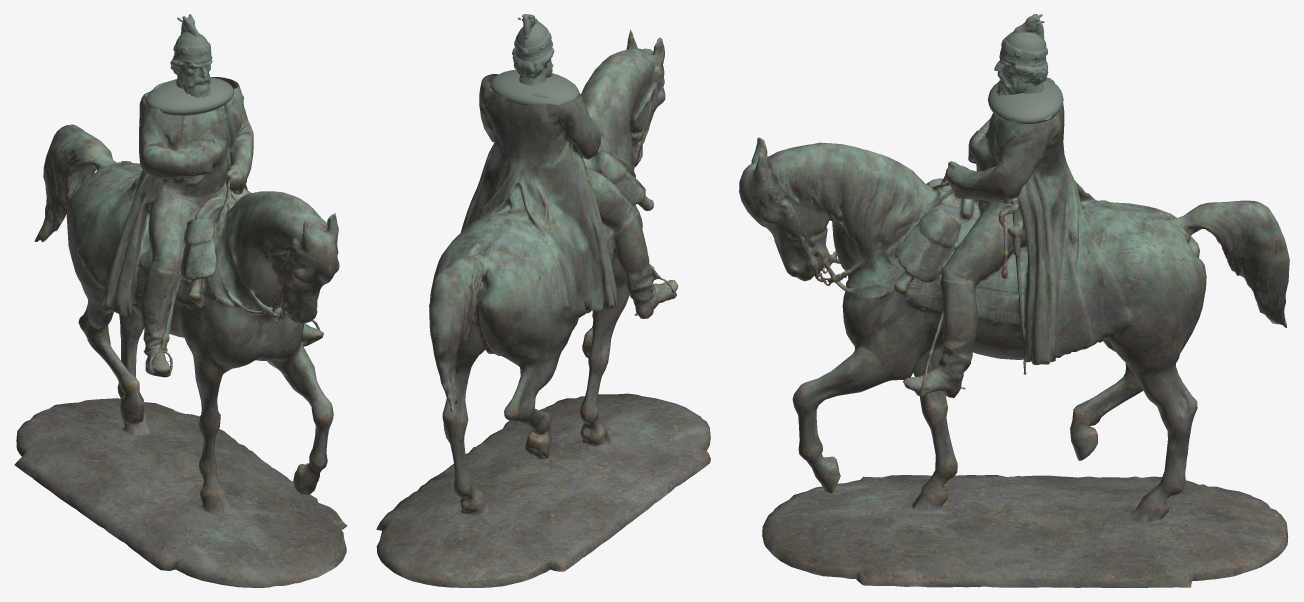
File: skanderbeg_approx.glb
3 renders of one model, left to right at view 1: azimuth 30°, elevation 25°; view 2: azimuth 150°, elevation 25°; view 3: azimuth 270°, elevation 25°, orthographic. The views are drawn at different scales.
Visible parts, largest first — view 1: Equestrian bronze, Skanderbeg portrait, Bronze collar; view 2: Equestrian bronze, Skanderbeg portrait, Bronze collar; view 3: Equestrian bronze, Skanderbeg portrait, Bronze collar.
Boxes of the visible parts, left/top/right/bottom form: Equestrian bronze: left=14, top=77, right=347, bottom=587; Skanderbeg portrait: left=143, top=14, right=212, bottom=98; Bronze collar: left=146, top=77, right=233, bottom=115; Equestrian bronze: left=376, top=29, right=710, bottom=587; Skanderbeg portrait: left=489, top=14, right=562, bottom=105; Bronze collar: left=490, top=70, right=579, bottom=105; Equestrian bronze: left=739, top=80, right=1289, bottom=587; Skanderbeg portrait: left=994, top=14, right=1054, bottom=119; Bronze collar: left=987, top=79, right=1063, bottom=123.
Bounding box in the file's own units: 3.22 × 7.79 × 7.36.
Materials: 2 (1 with a texture image).
